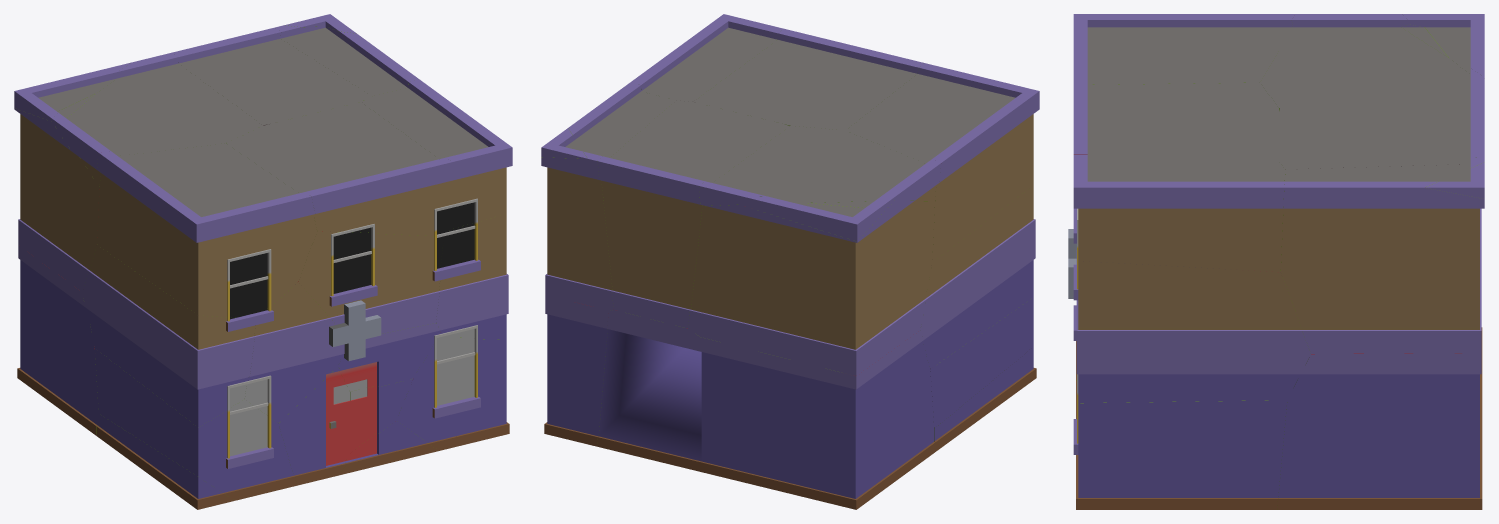
Rendered from Hospital_cell_final.fbx.
3 renders of one model, left to right at view 1: azimuth 30°, elevation 25°; view 2: azimuth 150°, elevation 25°; view 3: azimuth 270°, elevation 25°, orthographic. The views are drawn at different scales.
Visible parts, largest first — view 1: Hospital_cell.019, Hospital_cell.012, Hospital_cell.023, Hospital_cell.022, Hospital_cell.017, Hospital_cell.014, Hospital_cell.021, Hospital_cell.009, Hospital_cell.007, Hospital_cell.011, Hospital_cell.006, Hospital_cell.018 (+22 smaller); view 2: Hospital_cell.014, Hospital_cell.007, Hospital_cell.009, Hospital_cell.019, Hospital_cell.020, Hospital_cell.012, Hospital_cell.008, Hospital_cell.022, Hospital_cell.023, Hospital_cell.001, Hospital_cell.011, Hospital_cell.017 (+3 smaller); view 3: Hospital_cell.008, Hospital_cell.001, Hospital_cell.018, Hospital_cell.010, Hospital_cell.011, Hospital_cell.022, Hospital_cell.012, Hospital_cell.019, Hospital_cell.009, Hospital_cell.003, Hospital_cell.013, Hospital_cell.014 (+1 smaller).
Boxes of the visible parts, box(x1,y1,x2,y2) form: Hospital_cell.019: box(97, 143, 316, 317); Hospital_cell.012: box(226, 102, 451, 235); Hospital_cell.023: box(82, 245, 255, 427); Hospital_cell.022: box(51, 52, 262, 186); Hospital_cell.017: box(95, 348, 297, 500); Hospital_cell.014: box(14, 93, 99, 291); Hospital_cell.021: box(298, 231, 443, 333); Hospital_cell.009: box(173, 28, 371, 125); Hospital_cell.007: box(17, 245, 98, 435); Hospital_cell.011: box(361, 79, 512, 229); Hospital_cell.006: box(245, 282, 344, 423); Hospital_cell.018: box(436, 213, 508, 339); Hospital_cell.014: box(688, 200, 934, 375); Hospital_cell.007: box(700, 330, 935, 509); Hospital_cell.009: box(597, 100, 789, 328); Hospital_cell.019: box(846, 63, 1039, 262); Hospital_cell.020: box(597, 310, 701, 471); Hospital_cell.012: box(693, 28, 924, 130); Hospital_cell.008: box(541, 82, 675, 310); Hospital_cell.022: box(699, 125, 941, 206); Hospital_cell.023: box(920, 185, 1035, 368); Hospital_cell.001: box(544, 295, 608, 446); Hospital_cell.011: box(630, 14, 783, 101); Hospital_cell.017: box(930, 297, 1033, 428); Hospital_cell.008: box(1280, 157, 1484, 353); Hospital_cell.001: box(1277, 353, 1482, 509); Hospital_cell.018: box(1076, 261, 1310, 403); Hospital_cell.010: box(1076, 400, 1287, 509); Hospital_cell.011: box(1073, 154, 1285, 272); Hospital_cell.022: box(1259, 14, 1484, 110); Hospital_cell.012: box(1073, 77, 1279, 161); Hospital_cell.019: box(1073, 14, 1294, 84); Hospital_cell.009: box(1279, 101, 1484, 293); Hospital_cell.003: box(1401, 14, 1484, 77); Hospital_cell.013: box(1425, 162, 1484, 198); Hospital_cell.014: box(1401, 24, 1481, 250).
Bounding box in the file's own units: 1404 × 1218 × 1423.
